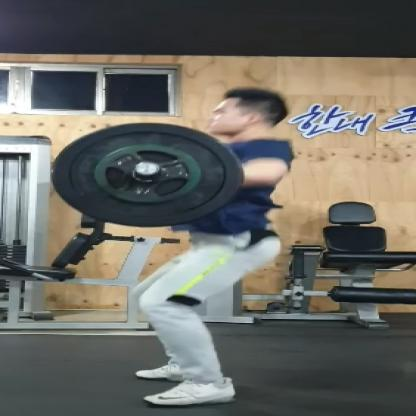Barbell: (40, 117, 251, 231)
